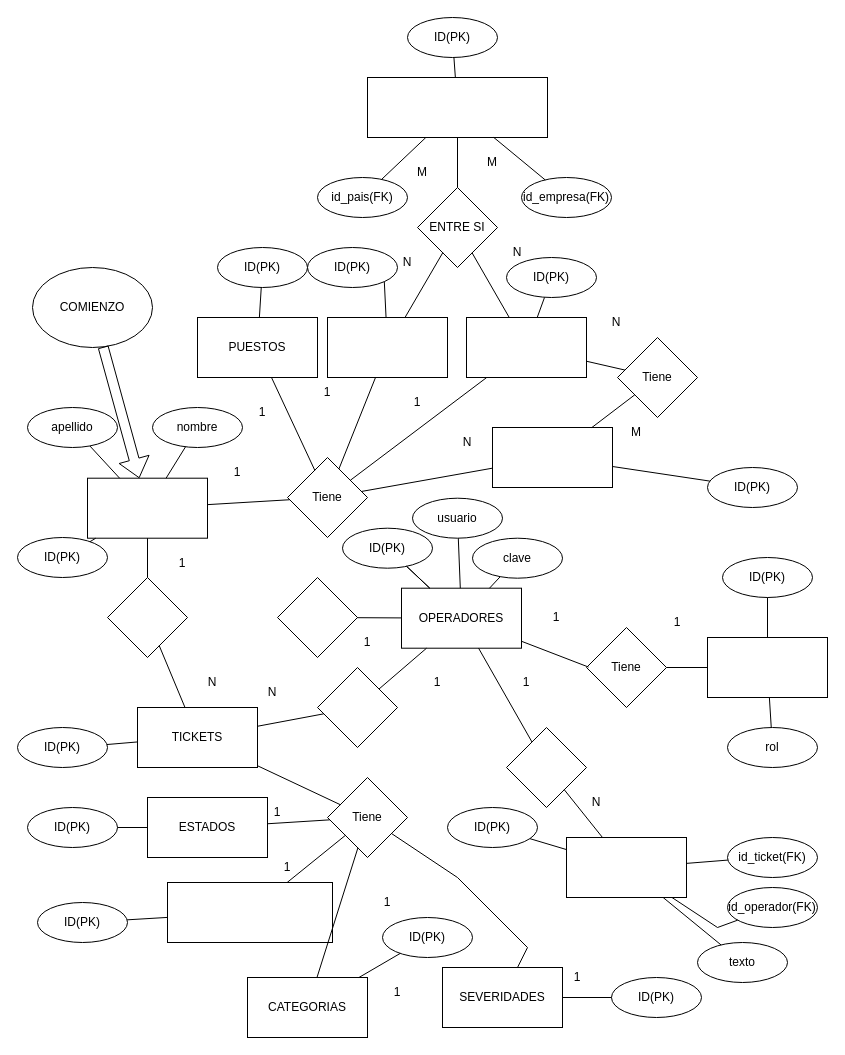
The diagram is 845 pixels wide and 1055 high, and some of its shapes have lost their labels. Here are the shapes that lost their labels. From the top down, the box of each, then its label:
(366, 76, 548, 138): EMPRESAS_X_PAISES
(326, 316, 448, 378): PAISES
(466, 316, 586, 378): EMPRESAS
(492, 426, 612, 488): TELEFONOS
(86, 477, 208, 538): CONTACTOS
(106, 576, 188, 658): Crea
(276, 576, 358, 658): Atendido x
(706, 636, 828, 698): ROLES
(316, 666, 398, 748): Crea ticket
(506, 726, 586, 808): Reclamo
(566, 836, 686, 898): COMENTARIOS
(166, 882, 332, 942): GRUPOS_DE_DERIVACION
